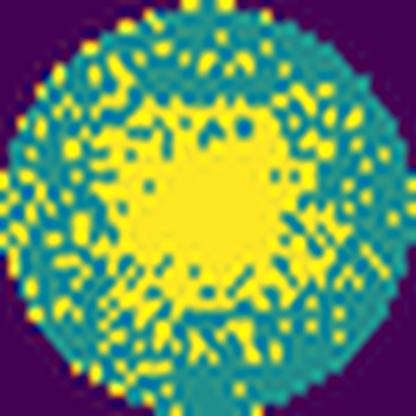Center: (98, 100, 320, 309)
